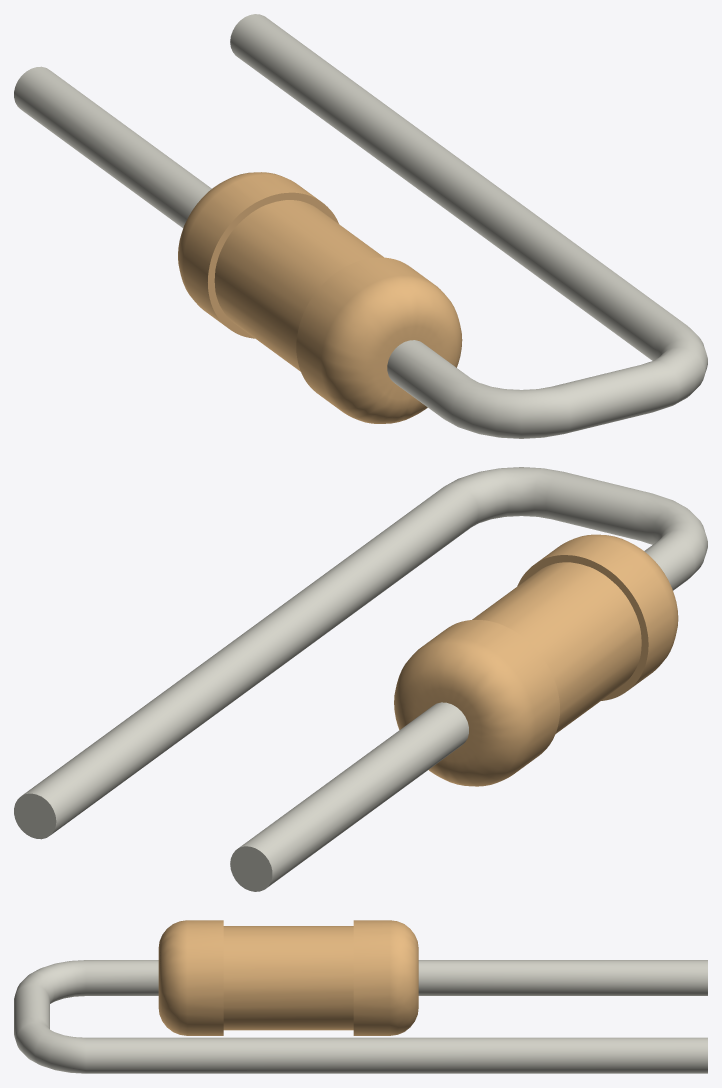
File: r-axial-din0204-l3.6-d1.6-p2.54-v.glb
3 renders of one model, top to bottom at view 1: azimuth 30°, elevation 25°; view 2: azimuth 150°, elevation 25°; view 3: azimuth 270°, elevation 25°, orthographic. The views are drawn at different scales.
Visible parts, largest first — view 1: PIN-01, RES-THT-01; view 2: PIN-01, RES-THT-01; view 3: PIN-01, RES-THT-01.
Part boxes in pixels (<box>): PIN-01: <box>14,14,707,438</box>; RES-THT-01: <box>178,172,462,423</box>; PIN-01: <box>14,467,707,891</box>; RES-THT-01: <box>394,534,678,786</box>; PIN-01: <box>14,960,707,1073</box>; RES-THT-01: <box>158,920,418,1035</box>.
Bounding box in the file's own units: 3.59 × 1.6 × 9.6.
